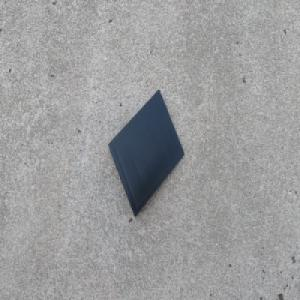PlasticPart: (107, 88, 185, 217)
